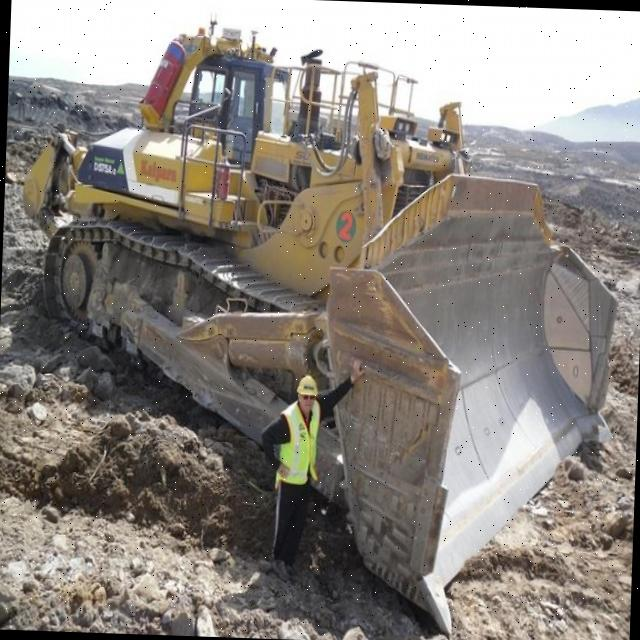Bulldozer: (12, 0, 636, 617)
